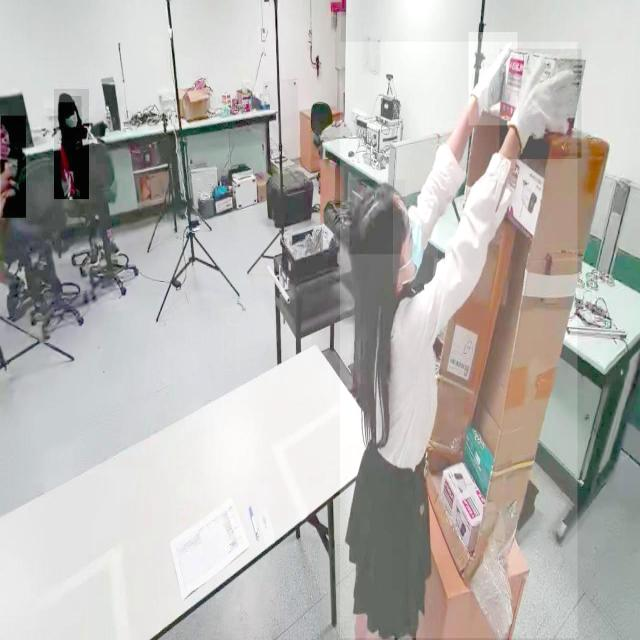face_mask: (393, 194, 438, 284), (59, 96, 82, 141)
hand_glove: (499, 49, 582, 159), (468, 32, 518, 126)
head_nohelmet: (349, 180, 405, 255), (58, 91, 76, 103)
person: (340, 42, 578, 639), (53, 89, 89, 200), (0, 115, 26, 218)
